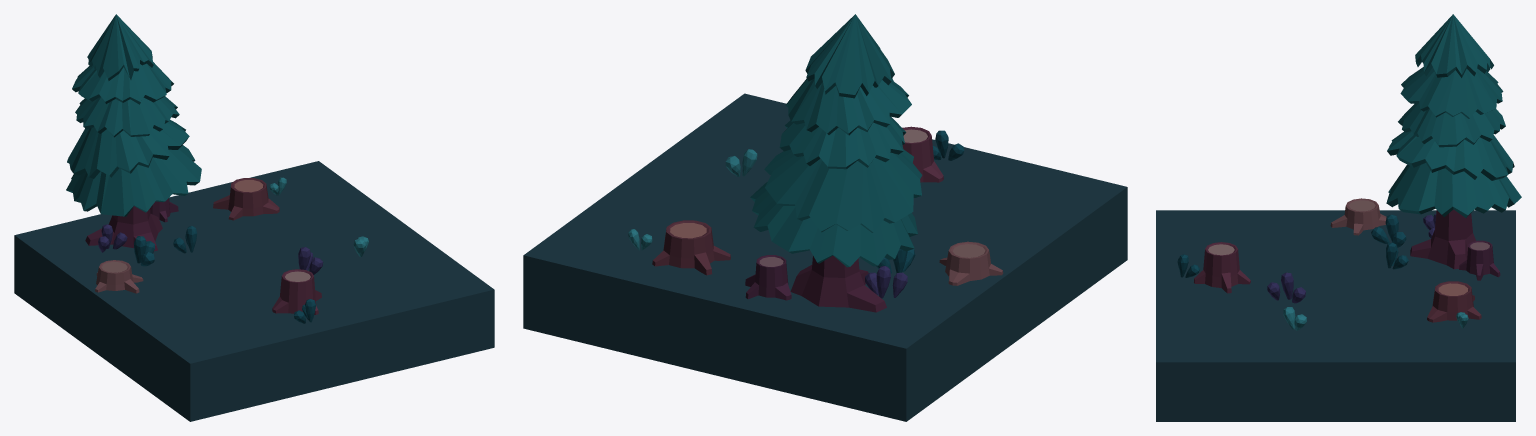
3 views of the same model, side by side, from view 1: azimuth 30°, elevation 25°; view 2: azimuth 150°, elevation 25°; view 3: azimuth 270°, elevation 25° (orthographic). The views are drawn at different scales.
Parts seen in each view (by area): view 1: Cube.002, 圆环.009, 圆环.008, 圆环.007, 圆环.006, 圆环.005, 柱体.004, 柱体.006, 柱体.001, 柱体.002, 棱角球.001, 棱角球.010 (+1 smaller); view 2: Cube.002, 圆环.008, 圆环.009, 圆环.006, 圆环.005, 圆环.007, 柱体.006, 柱体.004, 柱体.002, 柱体.003, 柱体.001, 棱角球.010 (+1 smaller); view 3: Cube.002, 圆环.009, 圆环.006, 圆环.008, 圆环.007, 圆环.005, 柱体.006, 柱体.001, 柱体.004, 柱体.002, 柱体.003, 棱角球.006 (+3 smaller).
Boxes of the visible parts, <box> form: Cube.002: <box>14,161,494,421</box>; 圆环.009: <box>66,145,201,216</box>; 圆环.008: <box>67,120,189,178</box>; 圆环.007: <box>75,96,179,137</box>; 圆环.006: <box>72,62,173,104</box>; 圆环.005: <box>87,14,153,80</box>; 柱体.004: <box>213,178,279,220</box>; 柱体.006: <box>85,206,162,251</box>; 柱体.001: <box>272,269,321,314</box>; 柱体.002: <box>95,260,143,293</box>; 棱角球.001: <box>134,236,154,266</box>; 棱角球.010: <box>98,224,127,252</box>; Cube.002: <box>523,93,1127,421</box>; 圆环.008: <box>764,149,922,232</box>; 圆环.009: <box>750,182,917,267</box>; 圆环.006: <box>785,78,911,135</box>; 圆环.005: <box>805,14,894,98</box>; 圆环.007: <box>779,116,906,169</box>; 柱体.006: <box>790,256,886,312</box>; 柱体.004: <box>652,220,730,275</box>; 柱体.002: <box>939,241,1003,285</box>; 柱体.003: <box>745,255,791,300</box>; 柱体.001: <box>902,126,943,182</box>; 棱角球.010: <box>865,266,907,298</box>; Cube.002: <box>1156,210,1515,421</box>; 圆环.009: <box>1386,163,1521,217</box>; 圆环.006: <box>1400,67,1503,118</box>; 圆环.008: <box>1387,131,1514,180</box>; 圆环.007: <box>1398,103,1505,147</box>; 圆环.005: <box>1415,14,1493,77</box>; 柱体.006: <box>1410,209,1475,269</box>; 柱体.001: <box>1194,242,1250,293</box>; 柱体.004: <box>1427,281,1481,322</box>; 柱体.002: <box>1330,198,1386,235</box>; 柱体.003: <box>1459,240,1500,280</box>; 棱角球.006: <box>1267,272,1305,303</box>.
Size of the model in its own units: 484 by 432 by 492.
